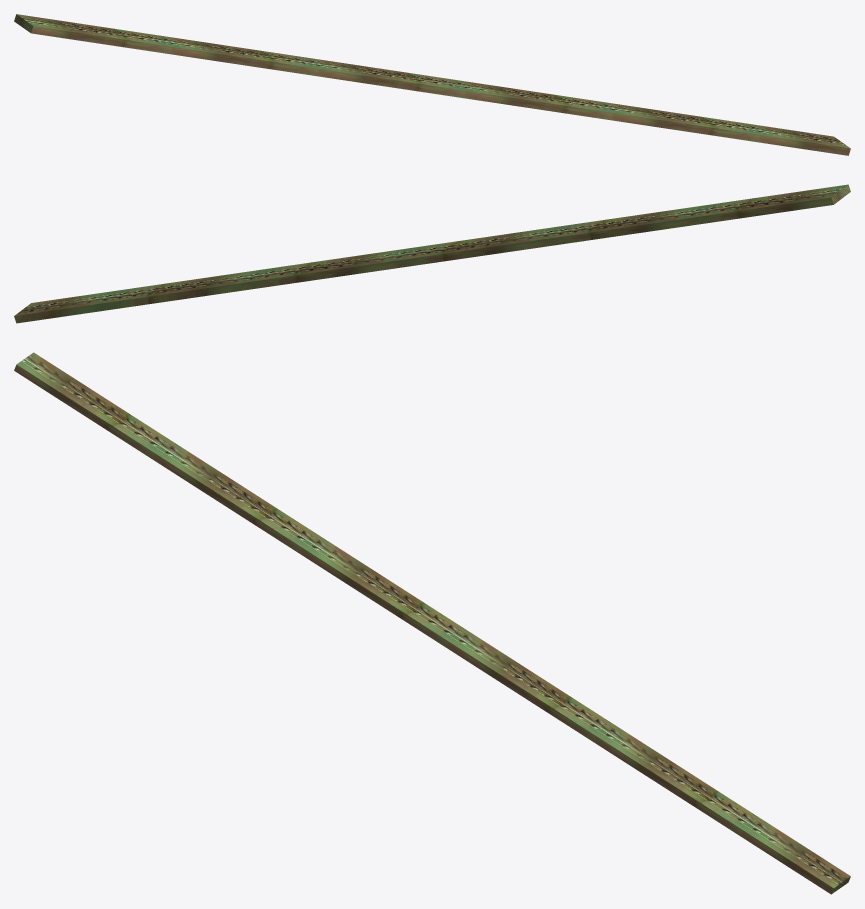
The model's file is GH_1_RoofT_2.gltf.
3 views of the same model, one above another, from view 1: azimuth 30°, elevation 25°; view 2: azimuth 150°, elevation 25°; view 3: azimuth 330°, elevation 25° (orthographic).
Visible parts, largest first — view 1: GH_1_RoofT_2; view 2: GH_1_RoofT_2; view 3: GH_1_RoofT_2.
Boxes of the visible parts, x1,y1,x2,y2 form: GH_1_RoofT_2: (14,14,850,155); GH_1_RoofT_2: (14,184,850,323); GH_1_RoofT_2: (14,352,850,894).
Size of the model in its own units: 4.94 by 1.88 by 0.2139.
1 material, 1 textured.
